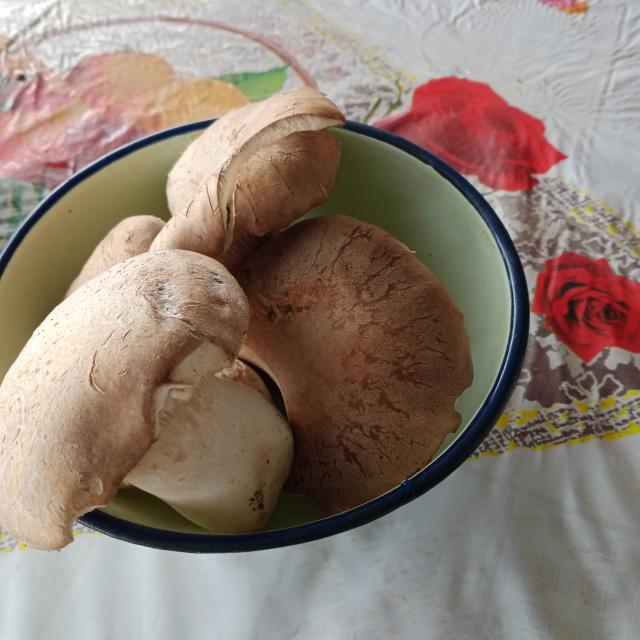Pleurotus cystidiosus: (0, 99, 470, 555)
